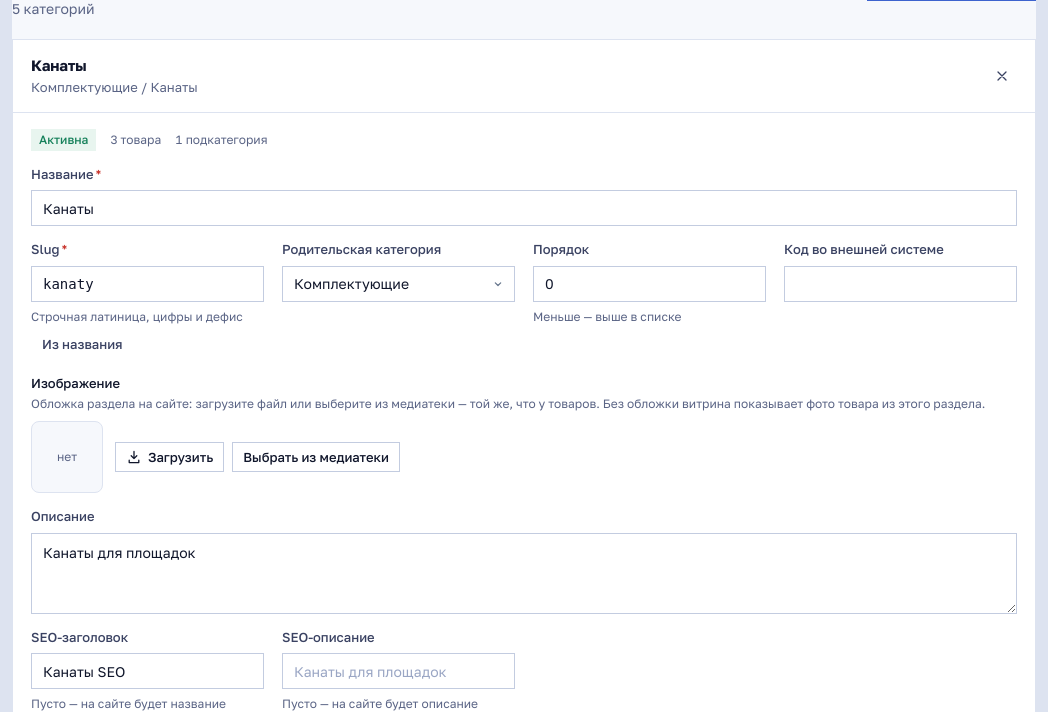
карточка категории › 403 при сохранении не маскируется
Type "5" into the field labelled "Порядок".
click(650, 284); type("5")  # box [533,266,766,302]
(page scrolled)
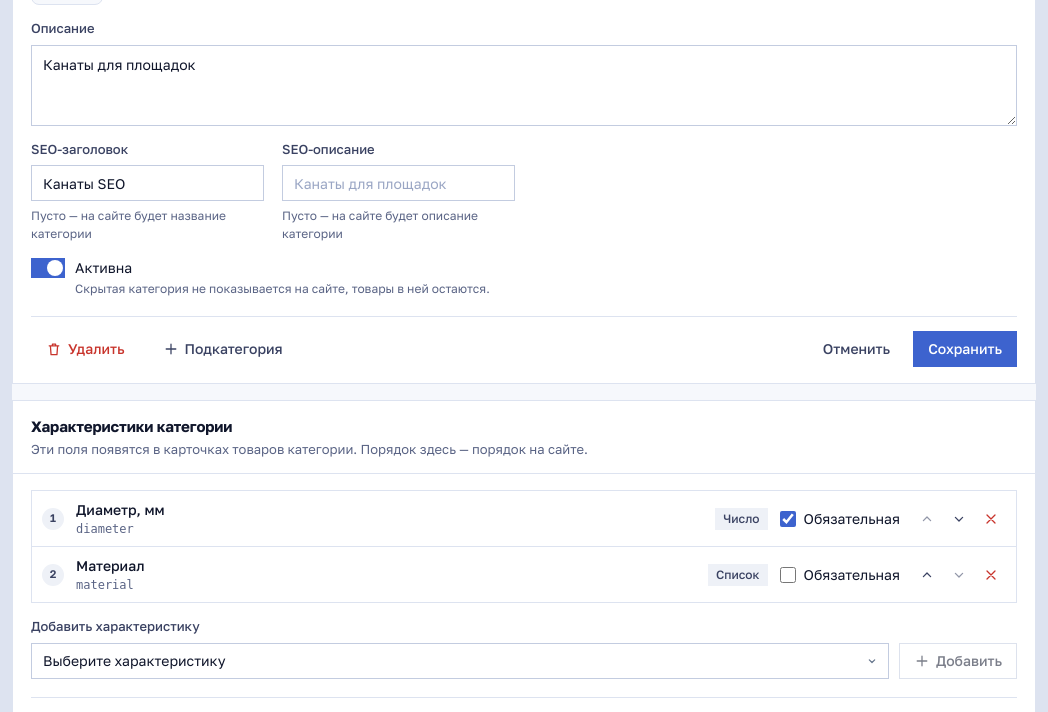
Click the button "Сохранить".
click(965, 349)  # box [913,331,1017,367]
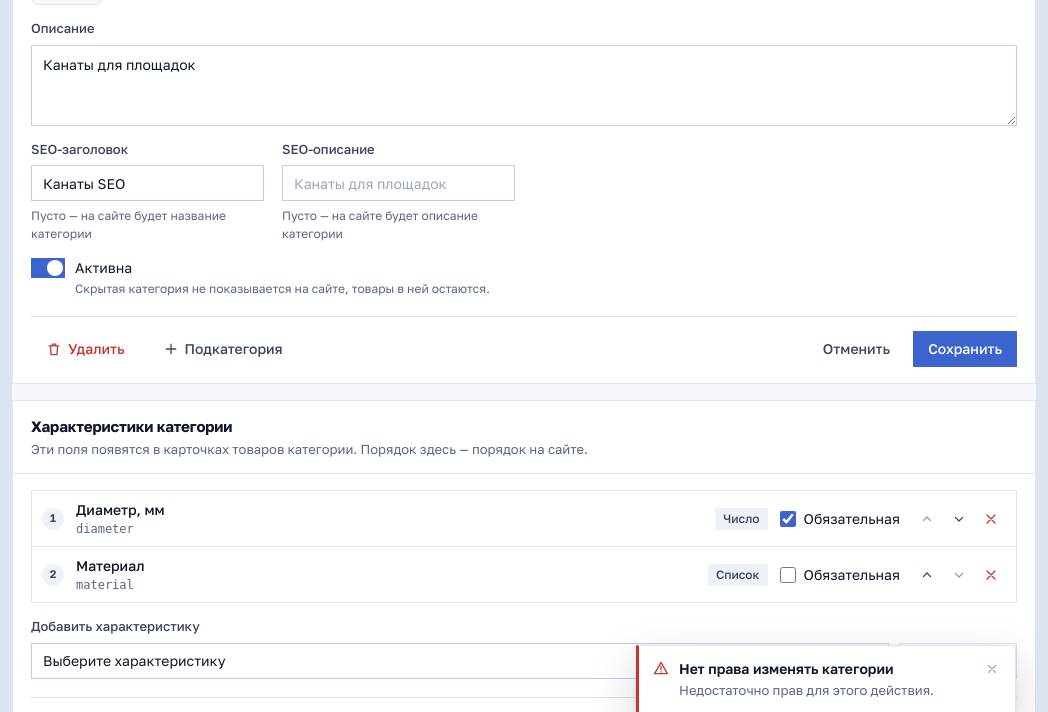
Expected: the text "Нет права изменять категории" is shown, [679,660,894,676]
